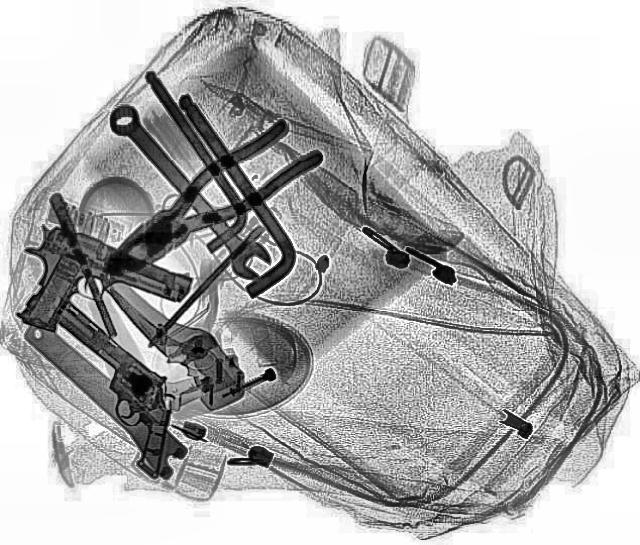Gun: (1, 301, 228, 481), (0, 219, 200, 366)
Pliers: (88, 114, 326, 294)
Wrench: (93, 100, 280, 284)
